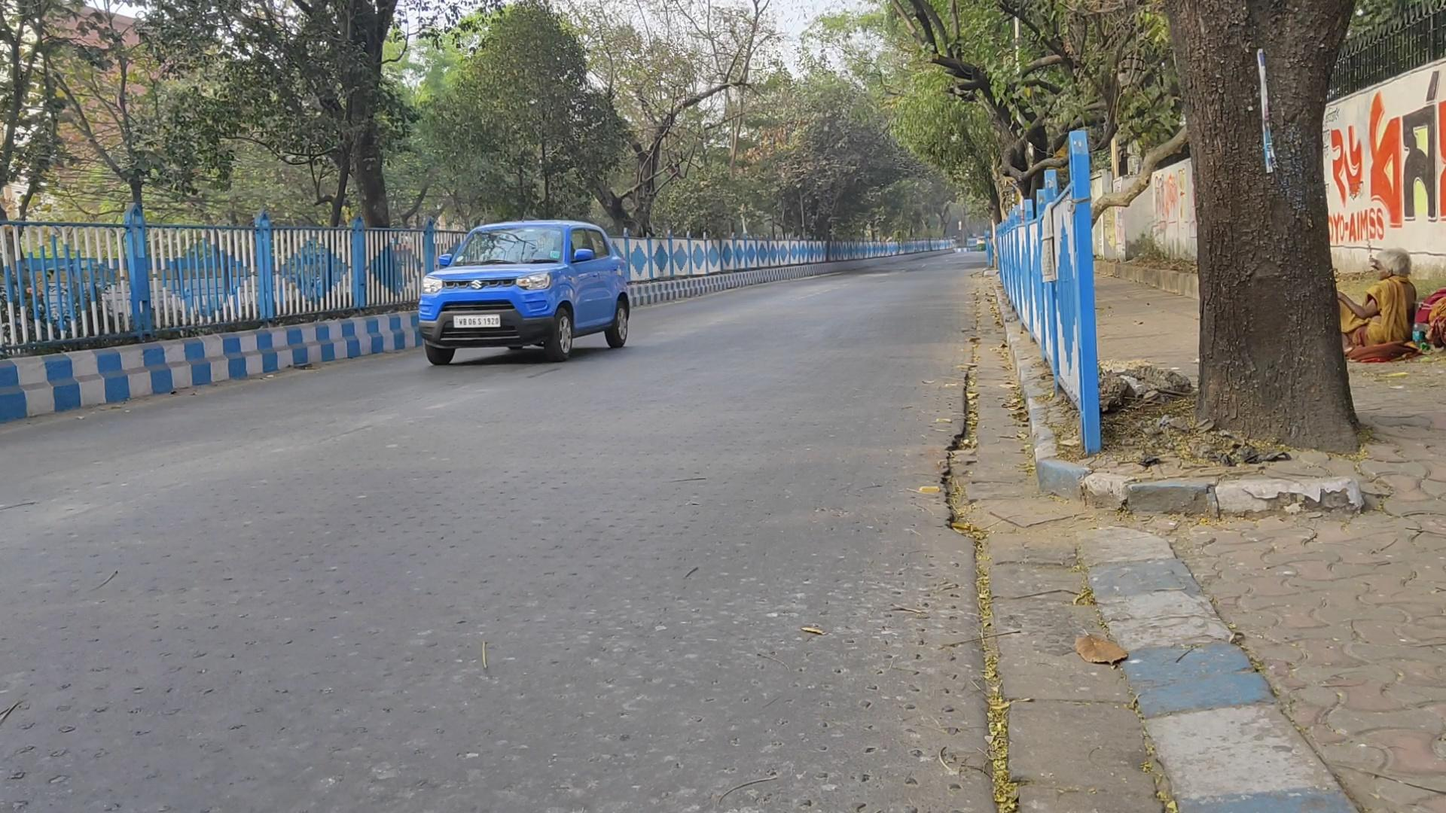car: (417, 219, 631, 367)
